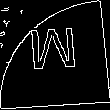M_S: (28, 28, 82, 82)
